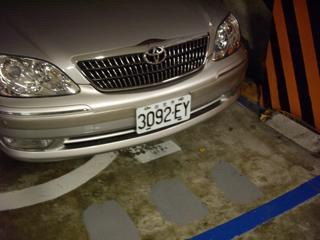plate: (134, 97, 192, 135)
